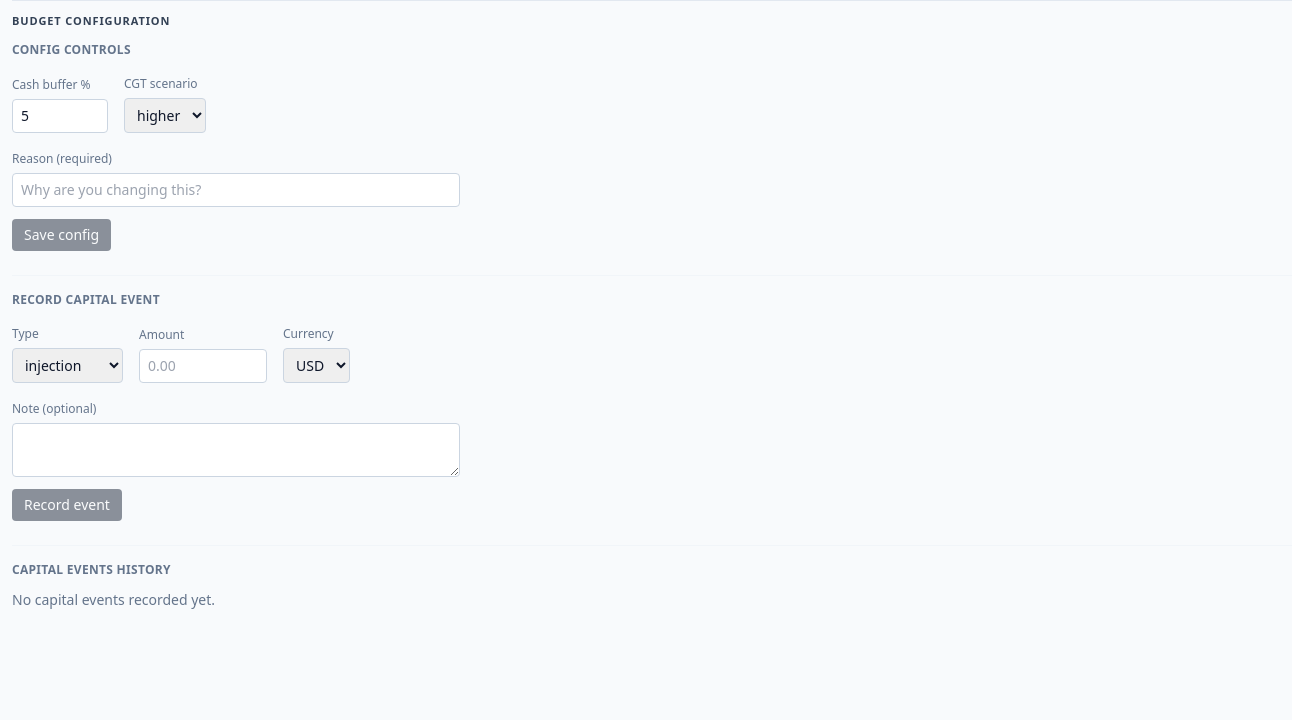
Test: BudgetConfigSection — save › shows error alert when save fails
Replace the text in the number field labelled "Cash buffer %" with "10" at (60, 116), box [12,98,108,132]
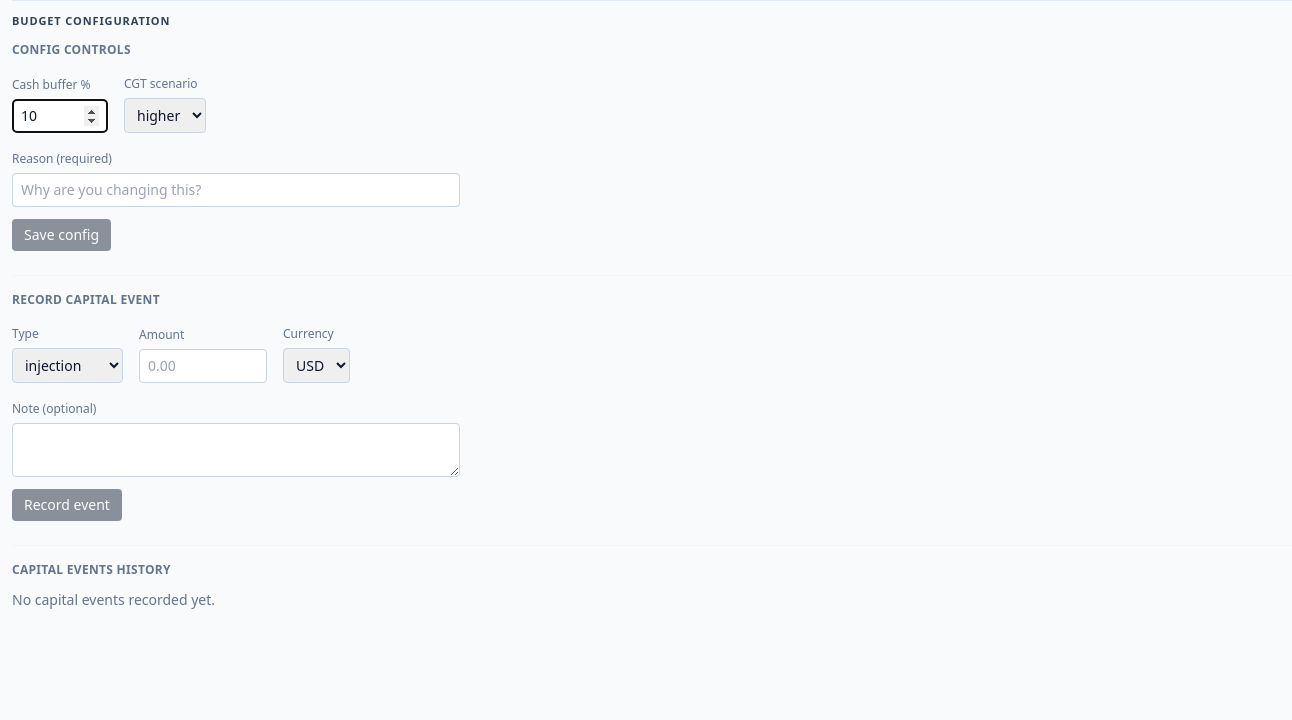
Type "test" into the field with placeholder "Why are you changing this?".
click(236, 190); type("test")  # box [12,172,460,206]
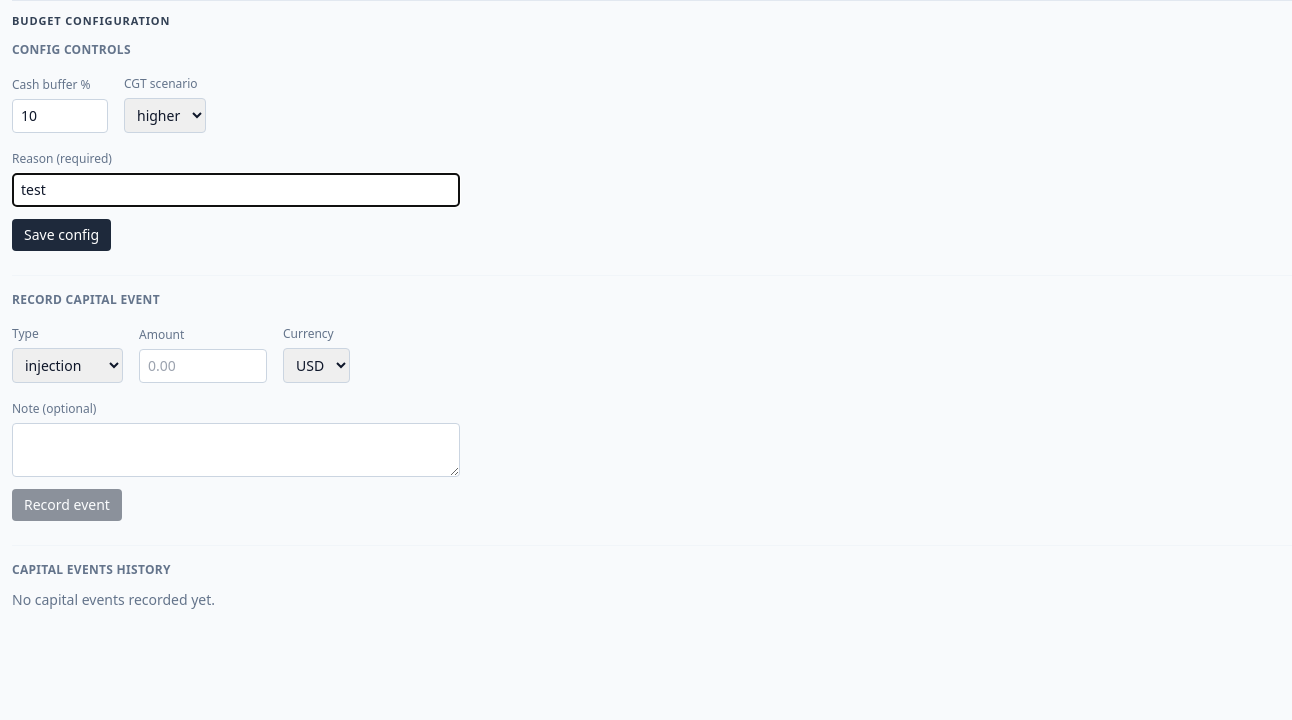
Click the button "Save config".
click(62, 234)  # box [12,218,111,250]
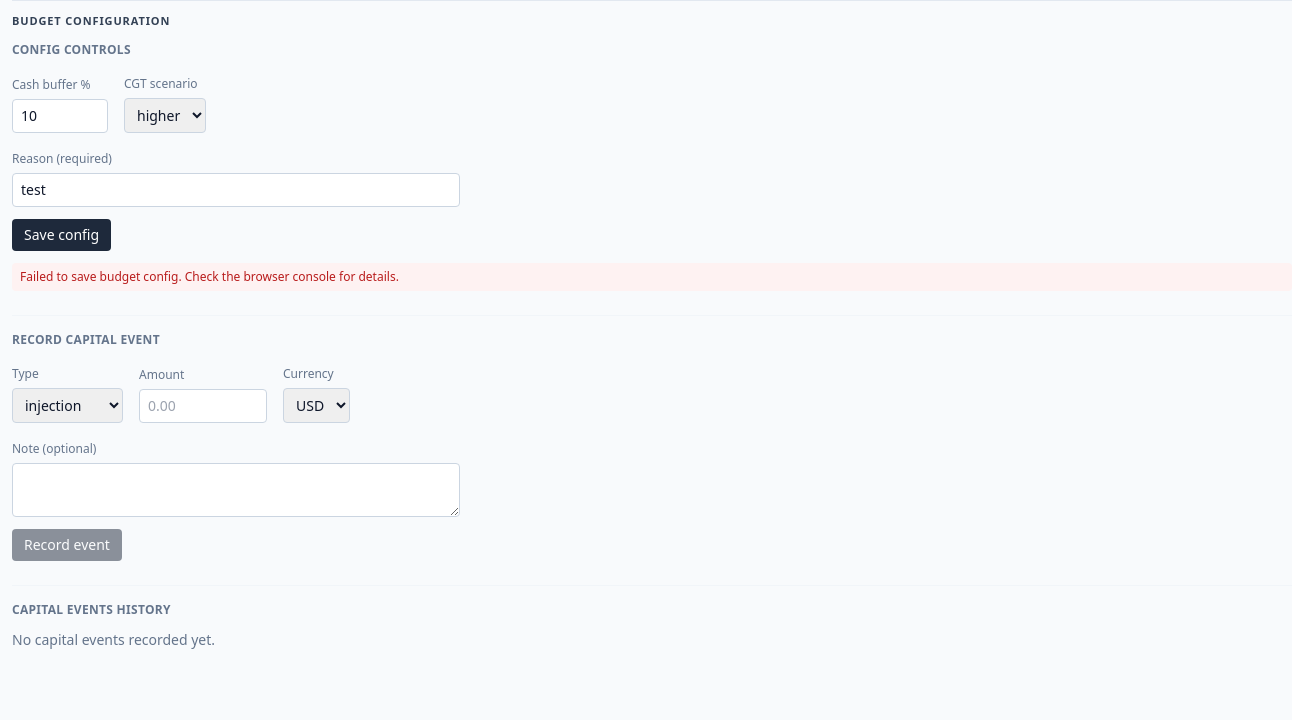
expect the message shows "Failed to save budget config": met, box [20,268,399,284]
